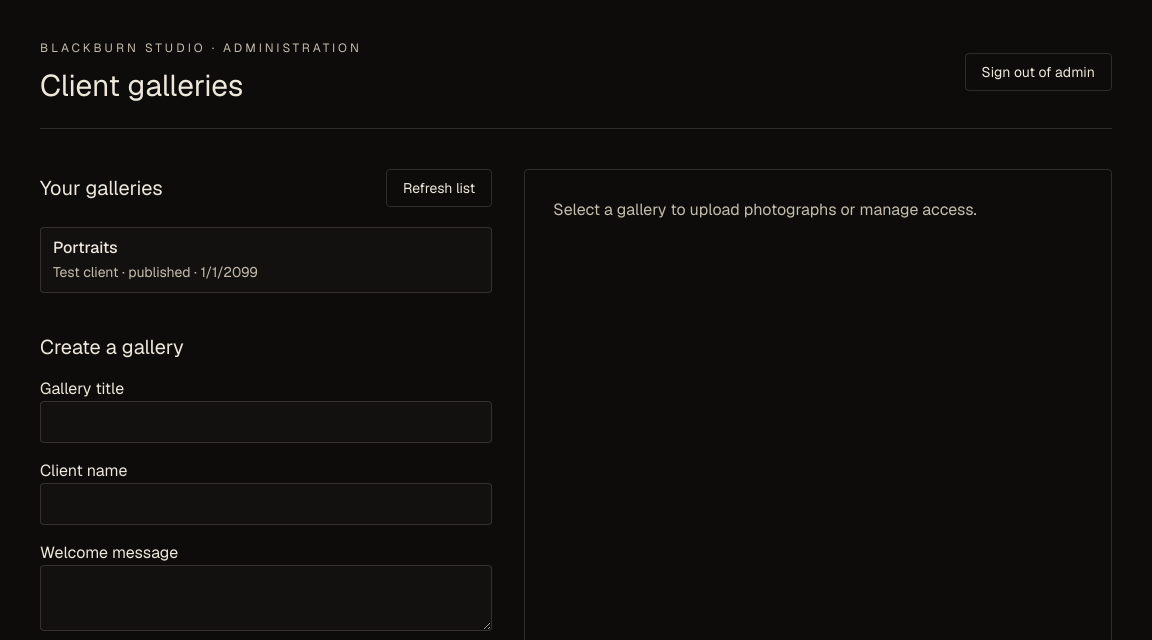
refreshes the selected panel when a sidebar record becomes revoked
Click the button "Portraits Test client · published · 1/1/2099" at (85, 248), box x1=40 y1=227 x2=492 y2=293
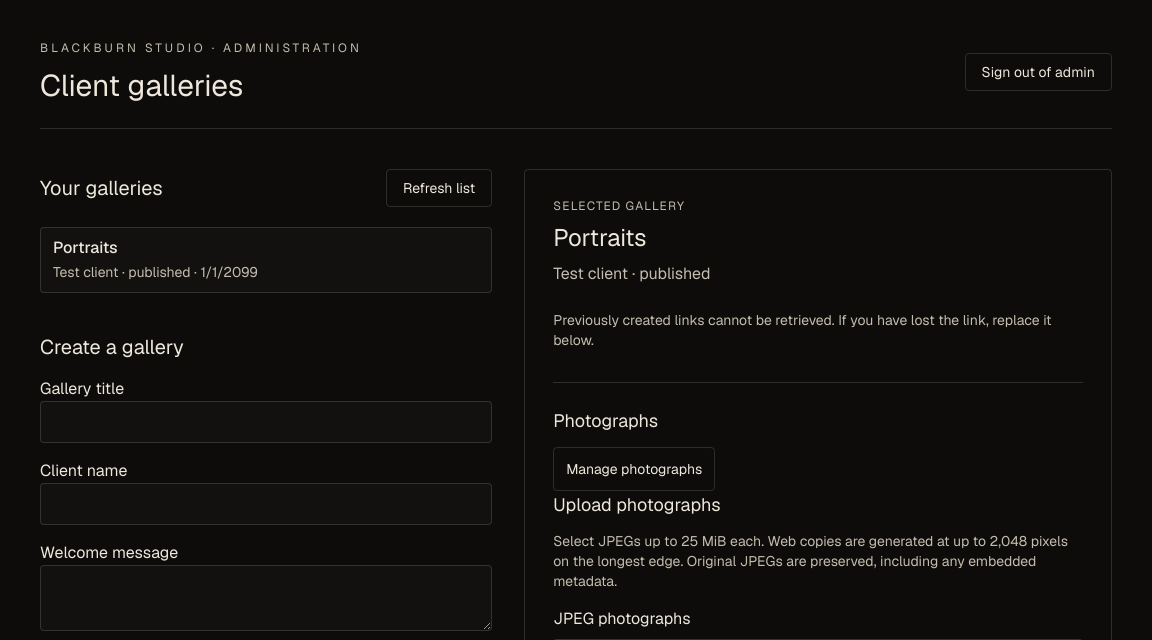
Click the button "Refresh list" at (439, 188), box x1=386 y1=169 x2=492 y2=207
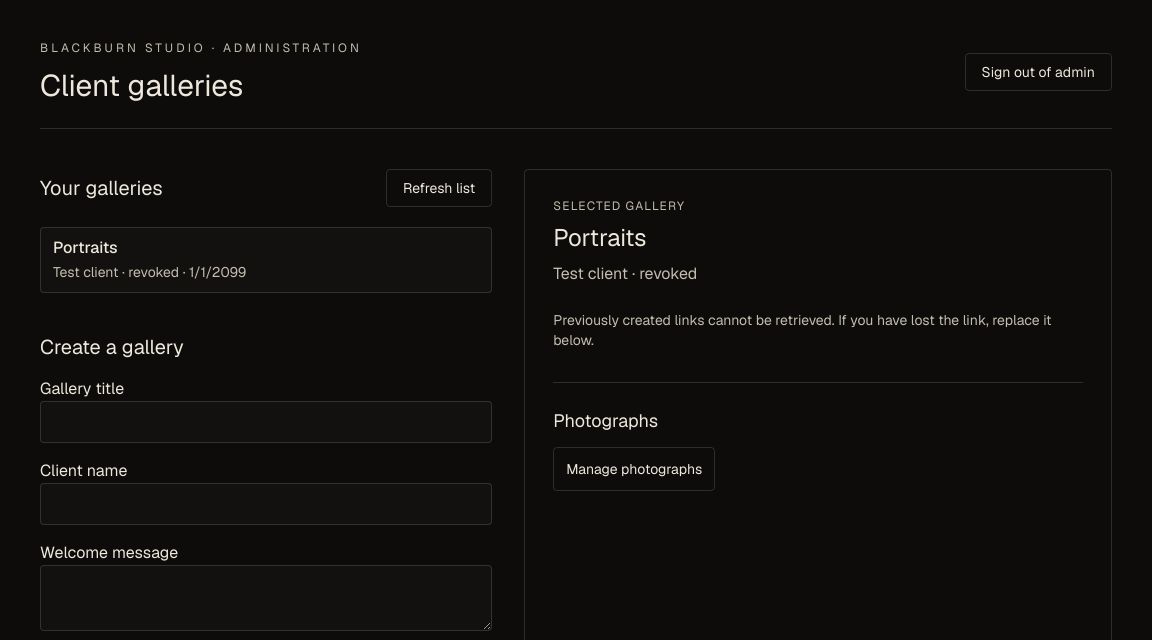
Expected: the text "Test client · revoked" is shown, x1=553 y1=263 x2=697 y2=284
